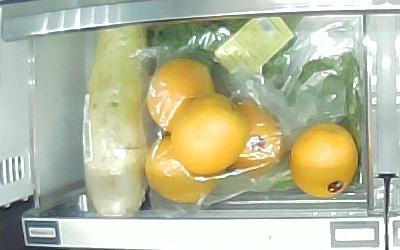orange: (171, 92, 247, 174), (290, 123, 357, 197)
orange_vinyl: (147, 59, 215, 133), (145, 136, 220, 203), (227, 102, 285, 175)
